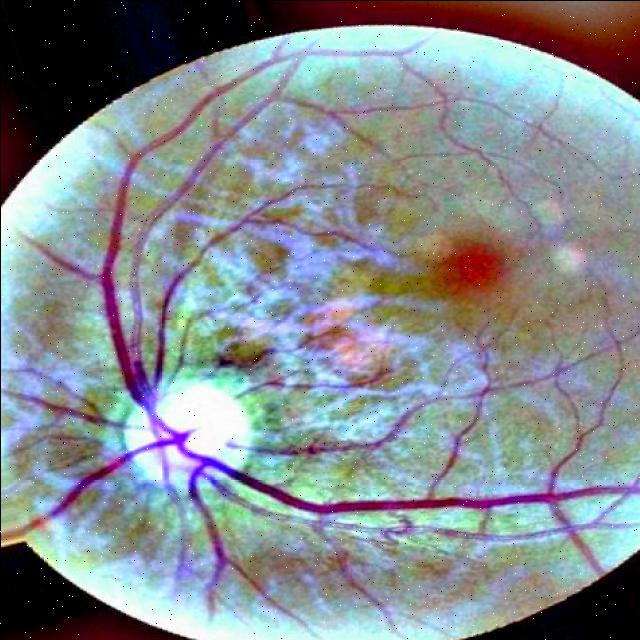Macula: (422, 215, 516, 303)
Nerves: (101, 60, 253, 376), (246, 472, 626, 520), (156, 209, 246, 351), (32, 461, 119, 529), (193, 515, 232, 605)
Optic Disk: (111, 369, 262, 502)
